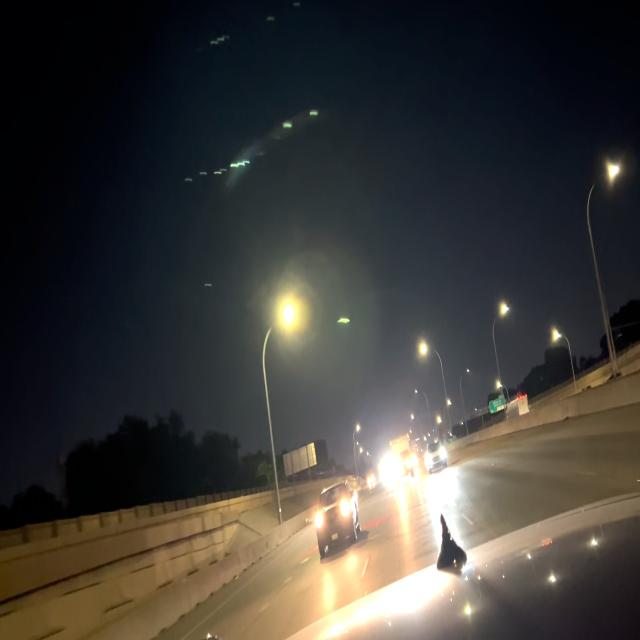back-of-sign: (282, 441, 317, 482)
